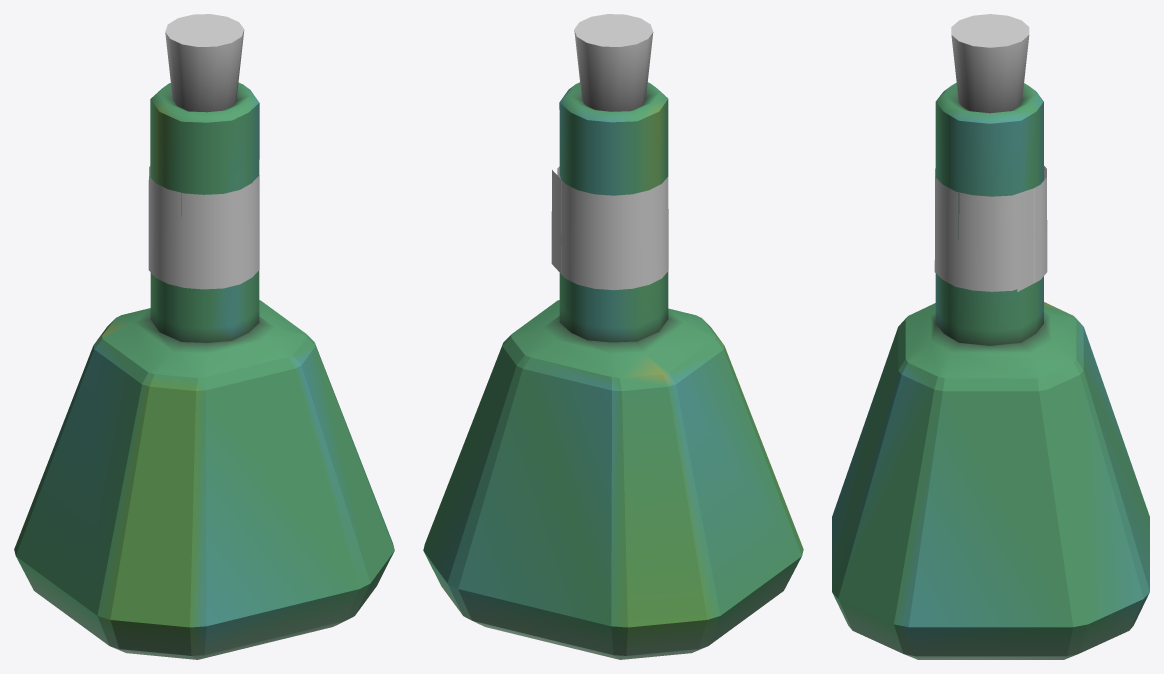
The model's file is sp_potion.fbx.
3 views of the same model, side by side, from view 1: azimuth 30°, elevation 25°; view 2: azimuth 150°, elevation 25°; view 3: azimuth 270°, elevation 25° (orthographic).
Visible parts, largest first — view 1: PotionStaminaLesser:0; view 2: PotionStaminaLesser:0; view 3: PotionStaminaLesser:0.
Boxes of the visible parts, x1=… form: PotionStaminaLesser:0: x1=14, y1=14, x2=394, y2=659; PotionStaminaLesser:0: x1=423, y1=14, x2=803, y2=659; PotionStaminaLesser:0: x1=832, y1=14, x2=1149, y2=659.
Bounding box in the file's own units: 918 × 1686 × 848.
